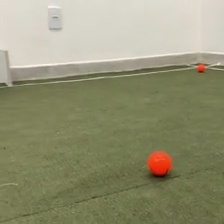ball: (147, 149, 173, 178), (196, 63, 206, 73)
